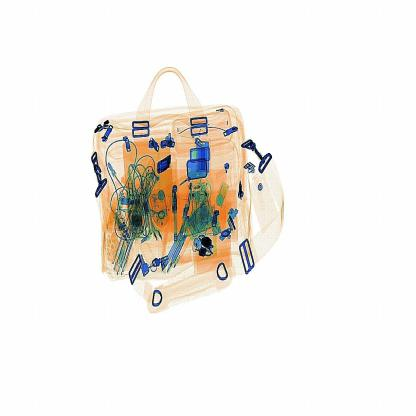knife: (157, 153, 176, 178)
